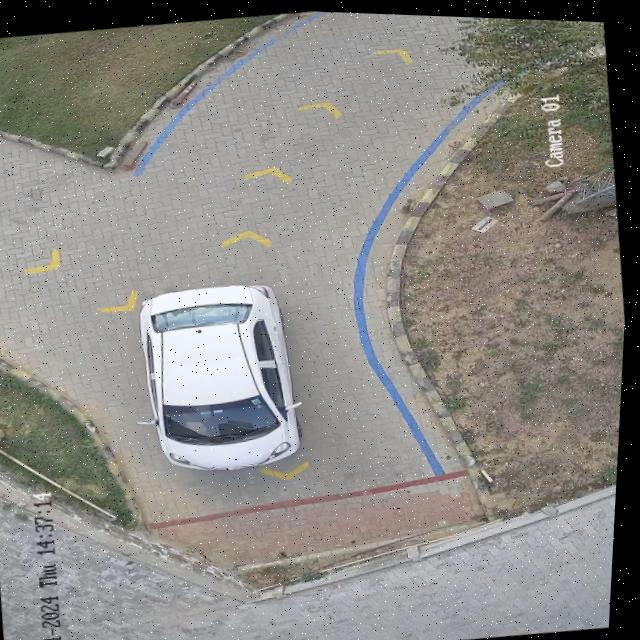car: (143, 280, 306, 468)
